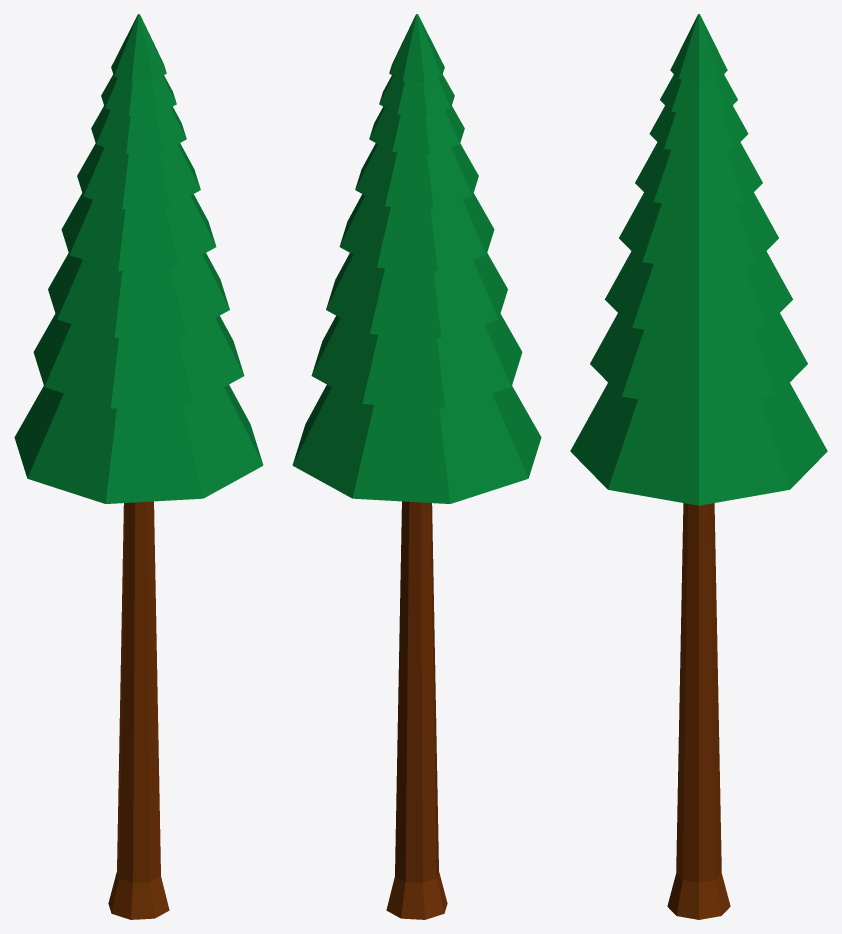
The model's file is hugePineTree.glb.
3 views of the same model, side by side, from view 1: azimuth 30°, elevation 25°; view 2: azimuth 150°, elevation 25°; view 3: azimuth 270°, elevation 25° (orthographic).
Parts seen in each view (by area): view 1: Circle; view 2: Circle; view 3: Circle.
Part boxes in pixels (x1,y1,x2,y2): Circle: [14, 14, 263, 919]; Circle: [292, 14, 541, 919]; Circle: [570, 14, 827, 919].
Bounding box in the file's own units: 2.62 × 10 × 2.62.
